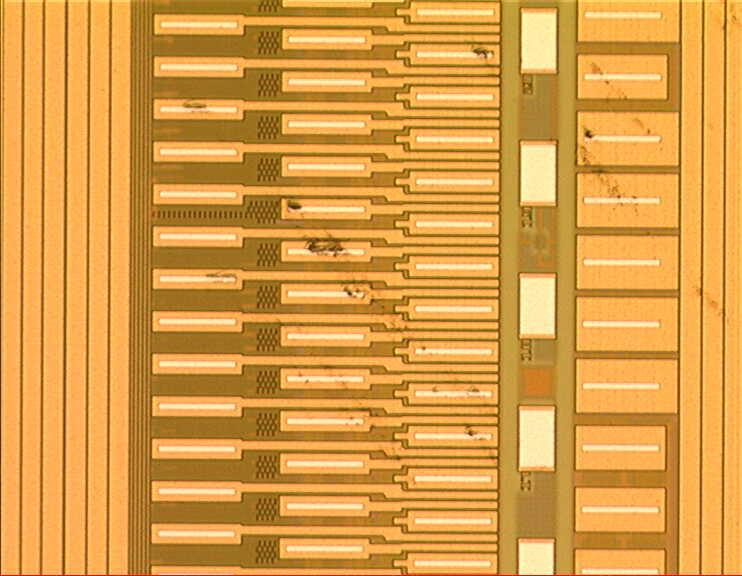SCRATCH: (176, 29, 738, 488)
